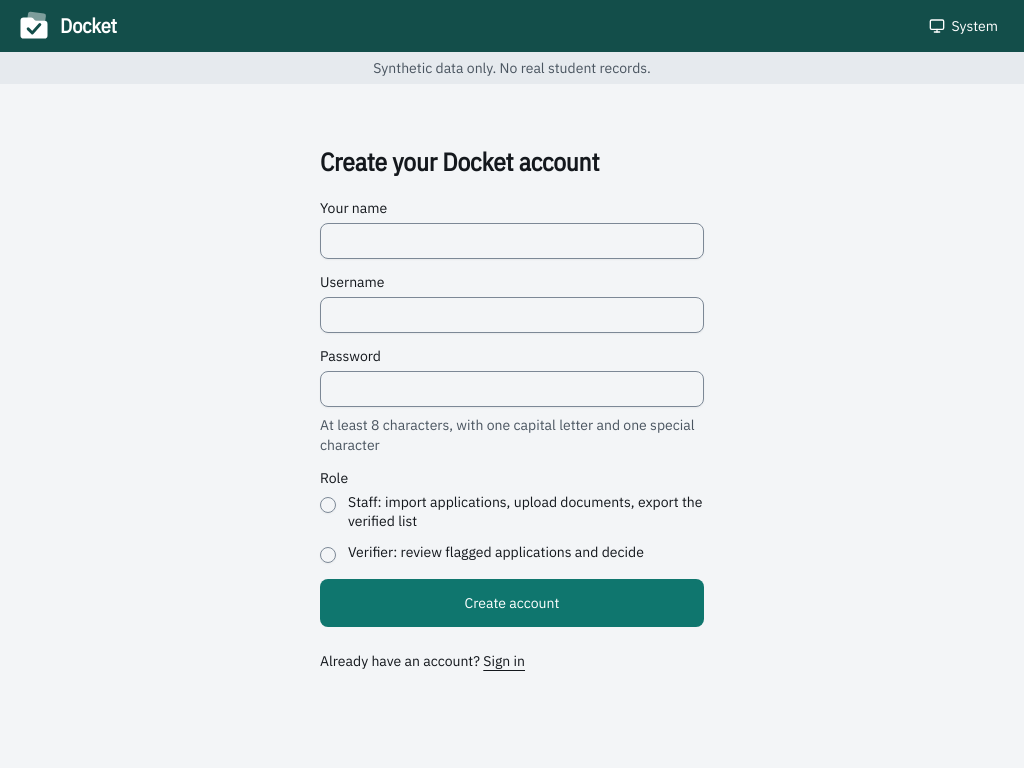
Test: signing up › names the password rule on a 422: password must be at least 8 characters
In the field labelled "Your name": (512,241) 320,223 -> 704,259, type "Asha Kumar"
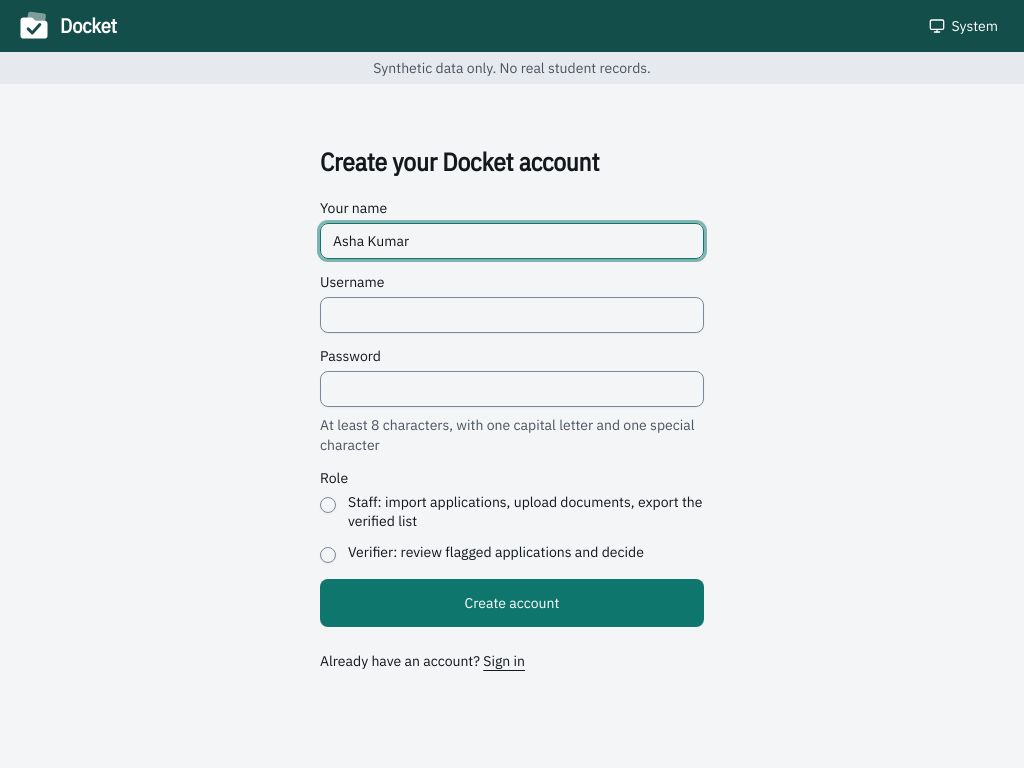
In the field labelled "Username": (512,315) 320,297 -> 704,333, type "asha.k"
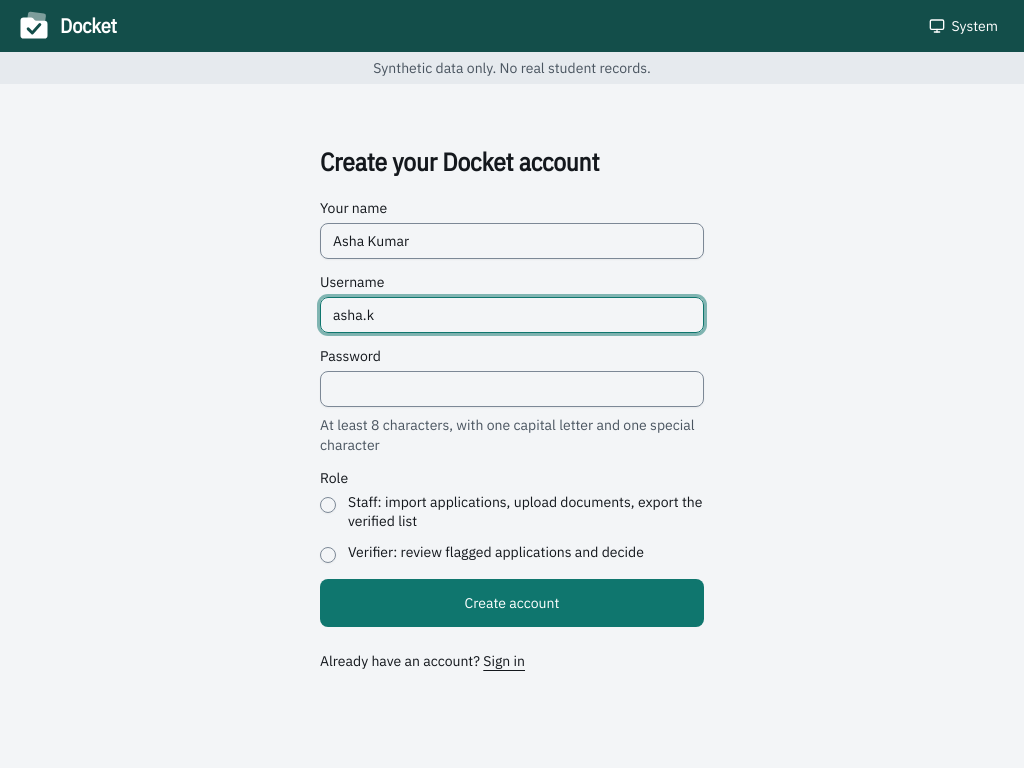
In the password field labelled "Password": (512,389) 320,371 -> 704,407, type "A-long-phrase-1"
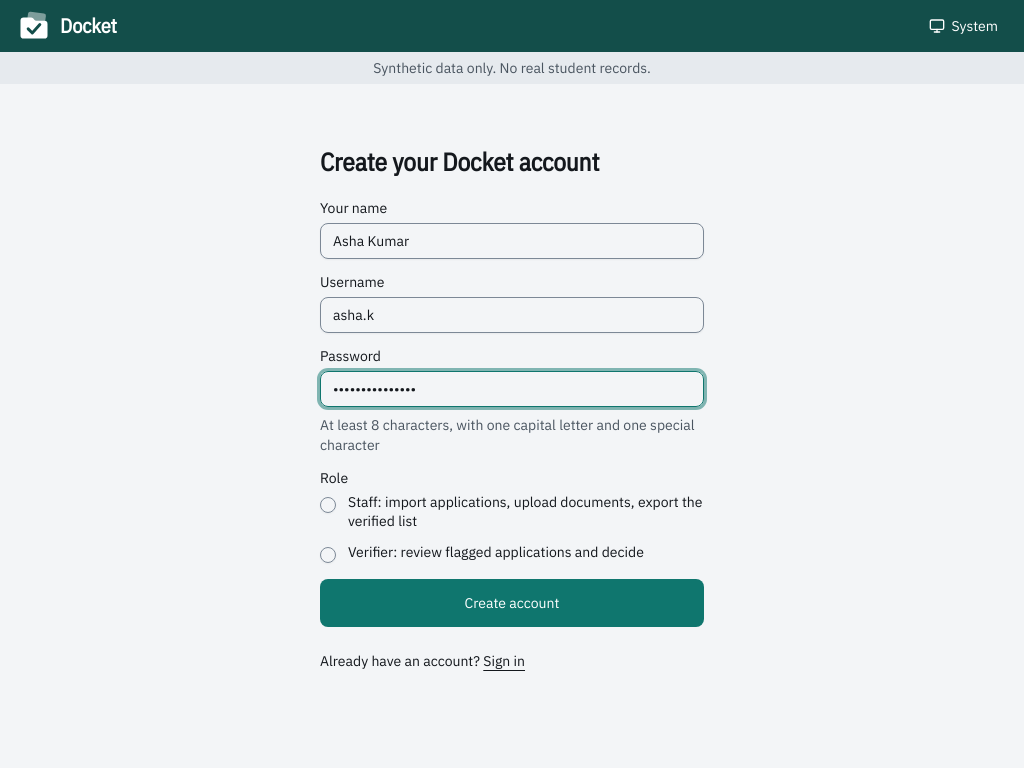
Click the 1st radio button named "Staff": (328,505) 320,497 -> 336,513
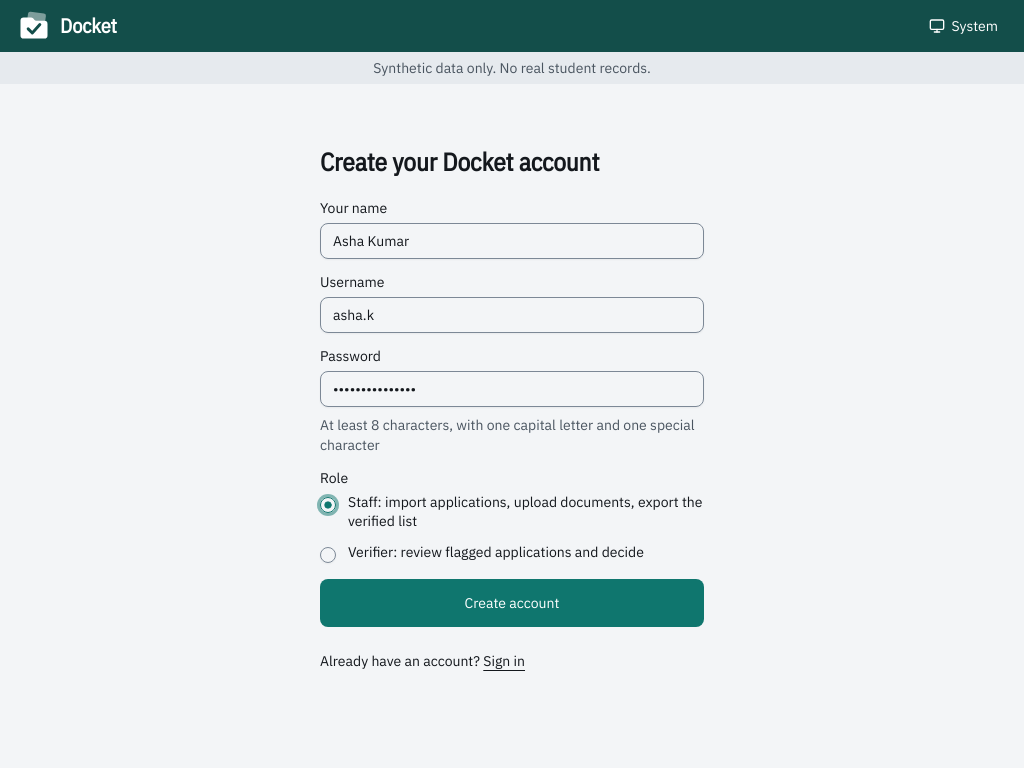
Click the button "Create account": (512,603) 320,579 -> 704,627
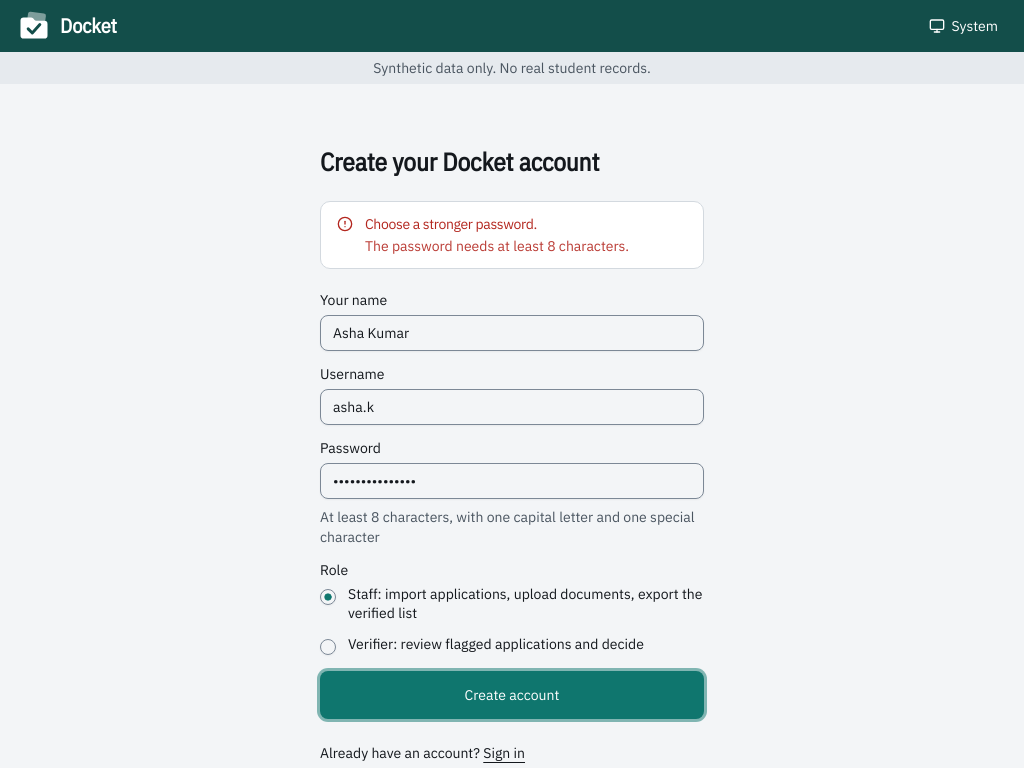
Expected: the text "The password needs at least 8 characters." is shown, 365,237 -> 629,255
